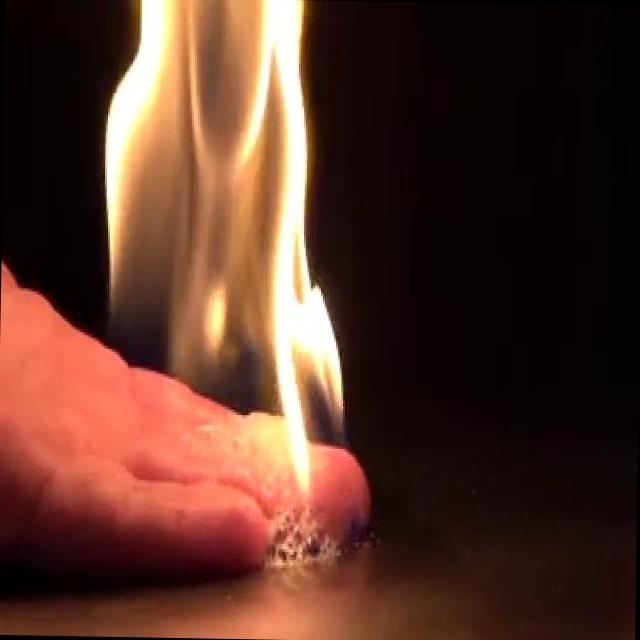Fire: (86, 0, 356, 501)
